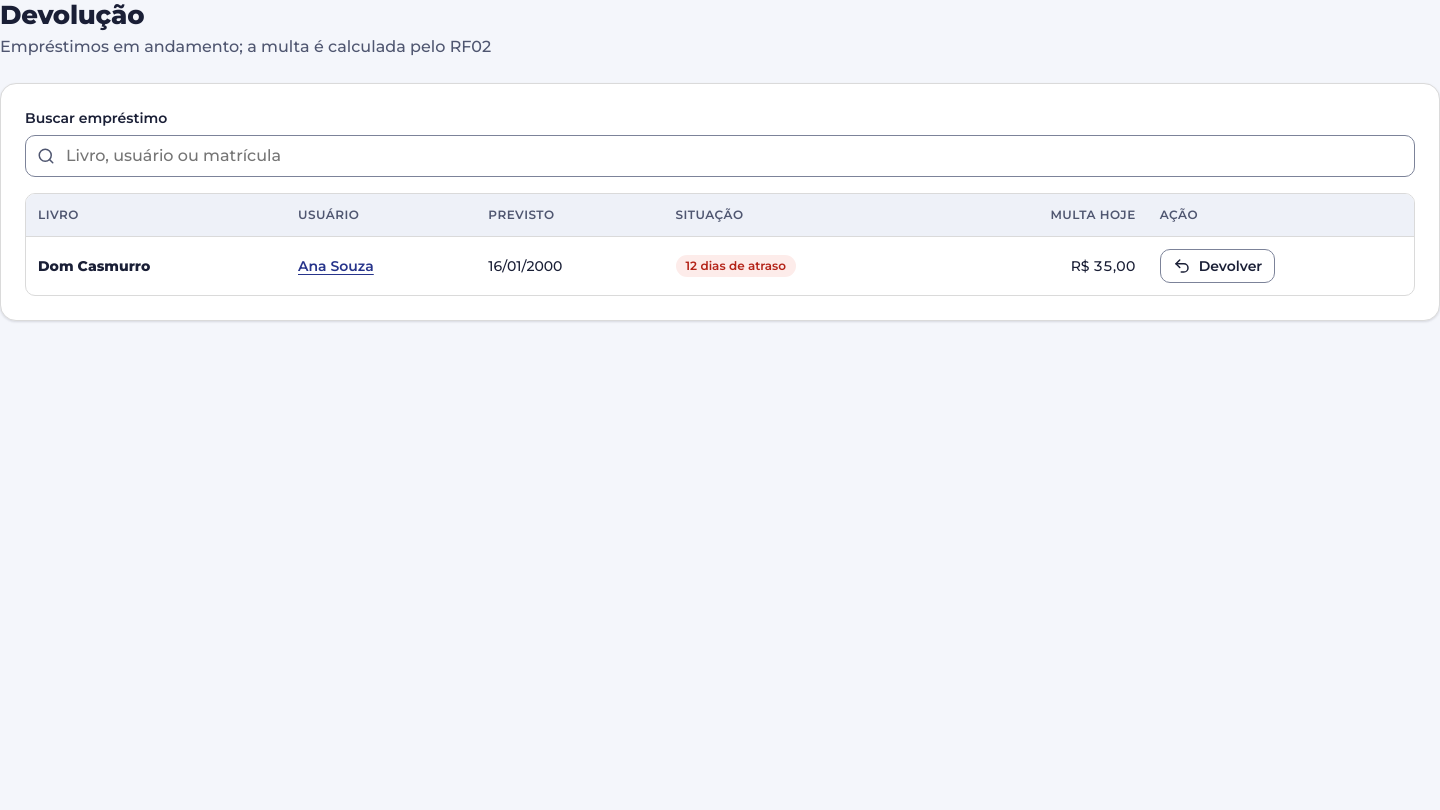
Test: UI — páginas › UI22 — devolução mostra a multa prevista para a data escolhida e confirma
Click the button "Devolver" at {"x": 1218, "y": 266}, box [1160,249,1275,283]
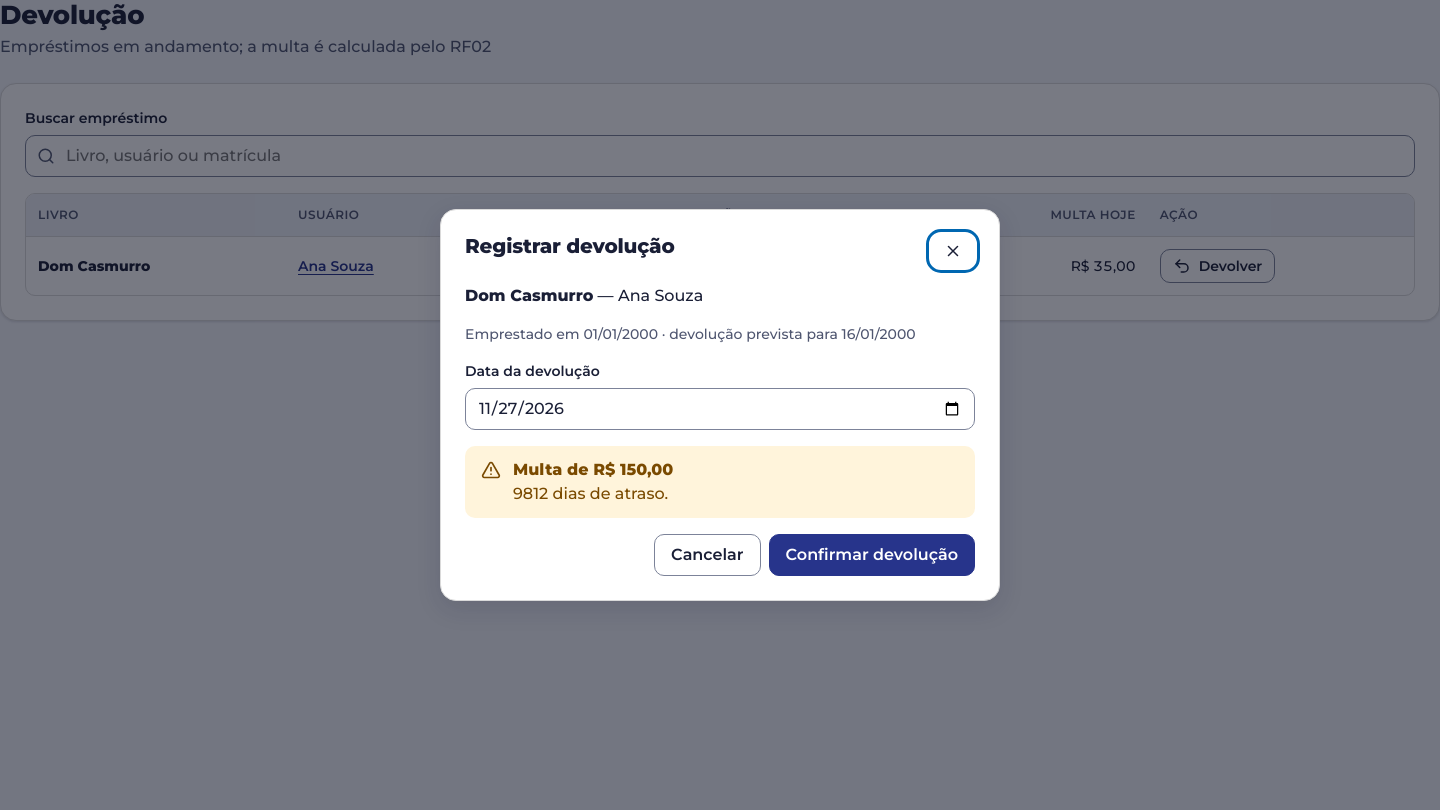
Type "2000-01-19" into the date field labelled "Data da devolução" at {"x": 720, "y": 409}, box [465,388,975,430]
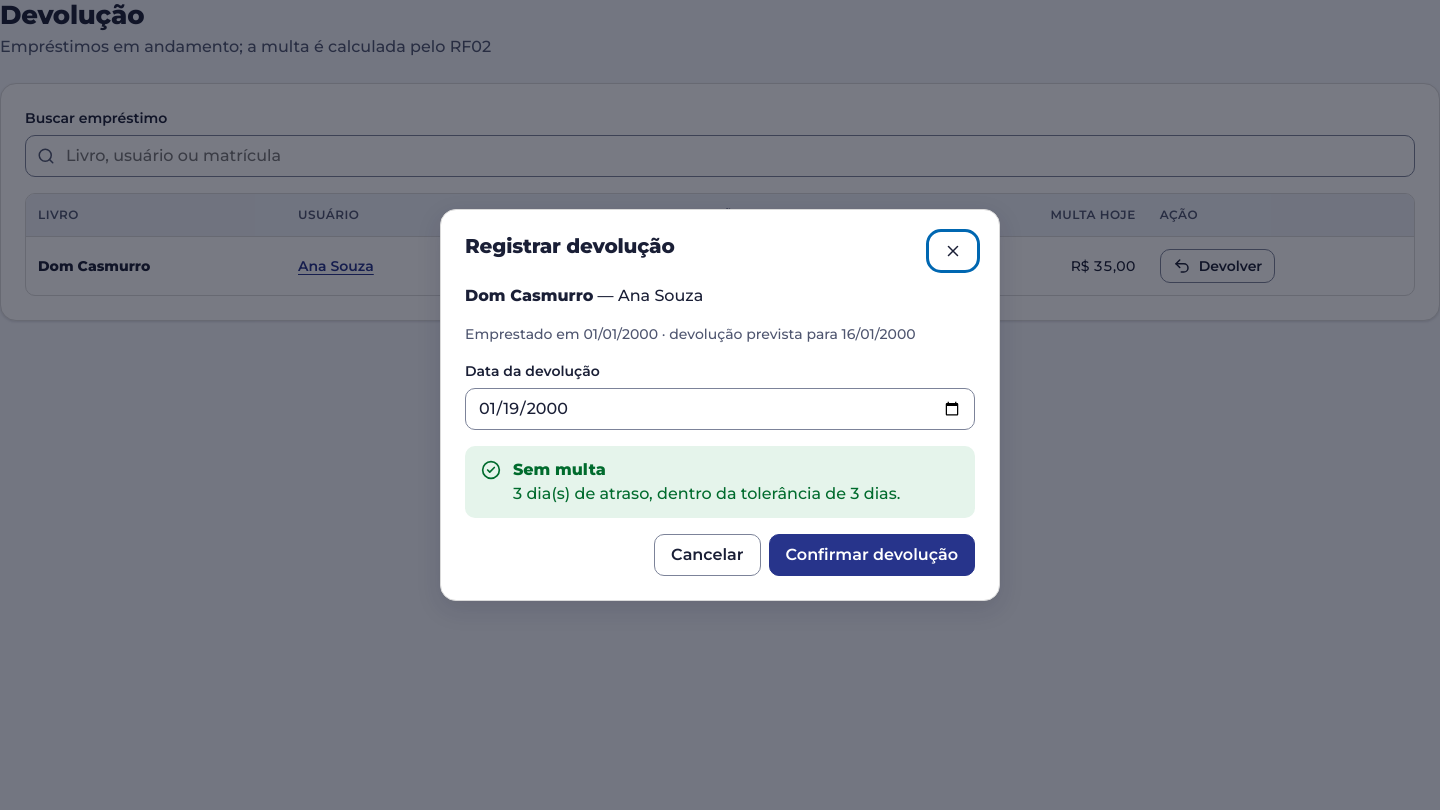
Check: the text "Sem multa" is shown, box [513,460,606,479]
Type "2000-01-20" into the date field labelled "Data da devolução" at {"x": 720, "y": 409}, box [465,388,975,430]
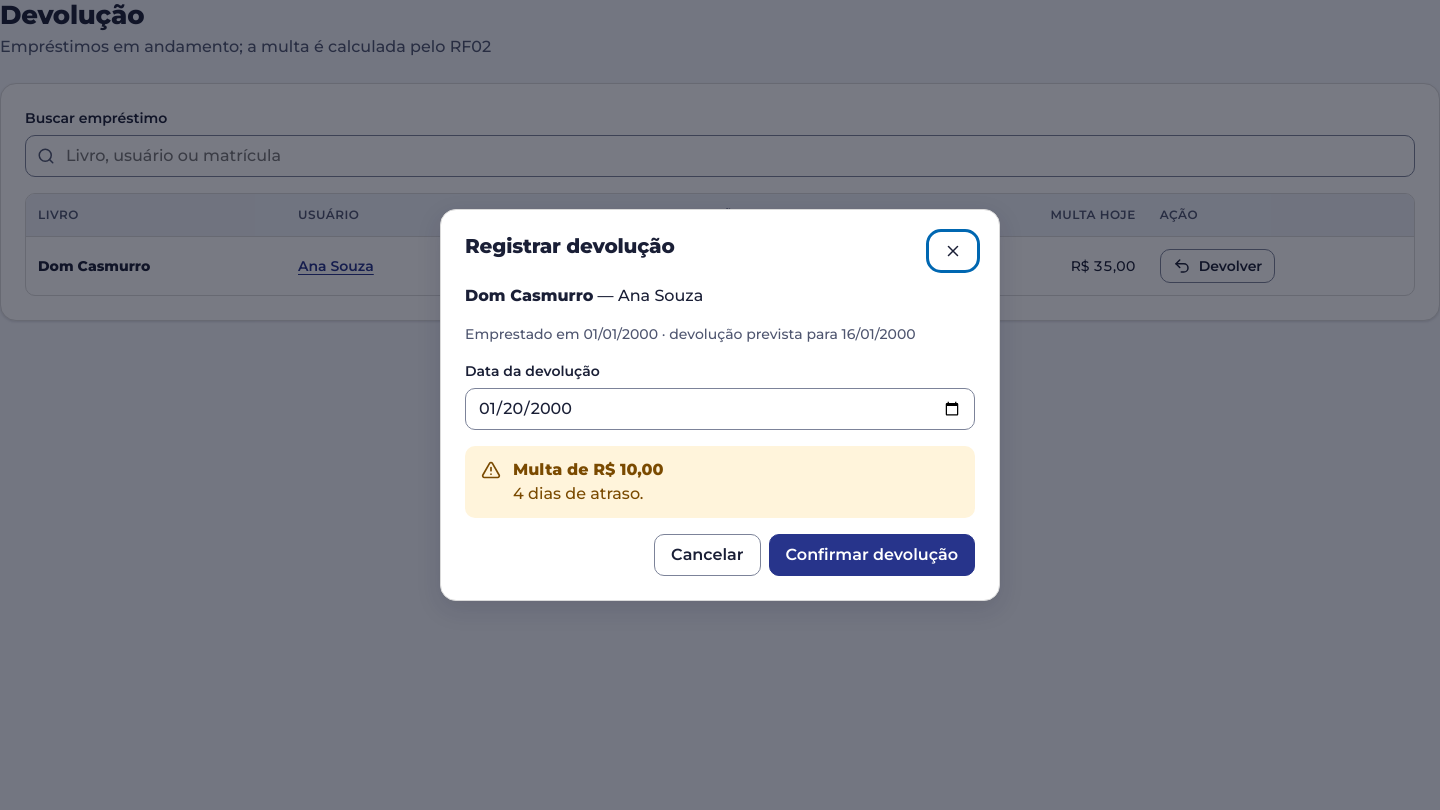
Check: the text "Multa de R$ 10,00" is shown, box [513,458,664,482]
Click the button "Confirmar devolução" at {"x": 872, "y": 555}, box [768,534,975,576]
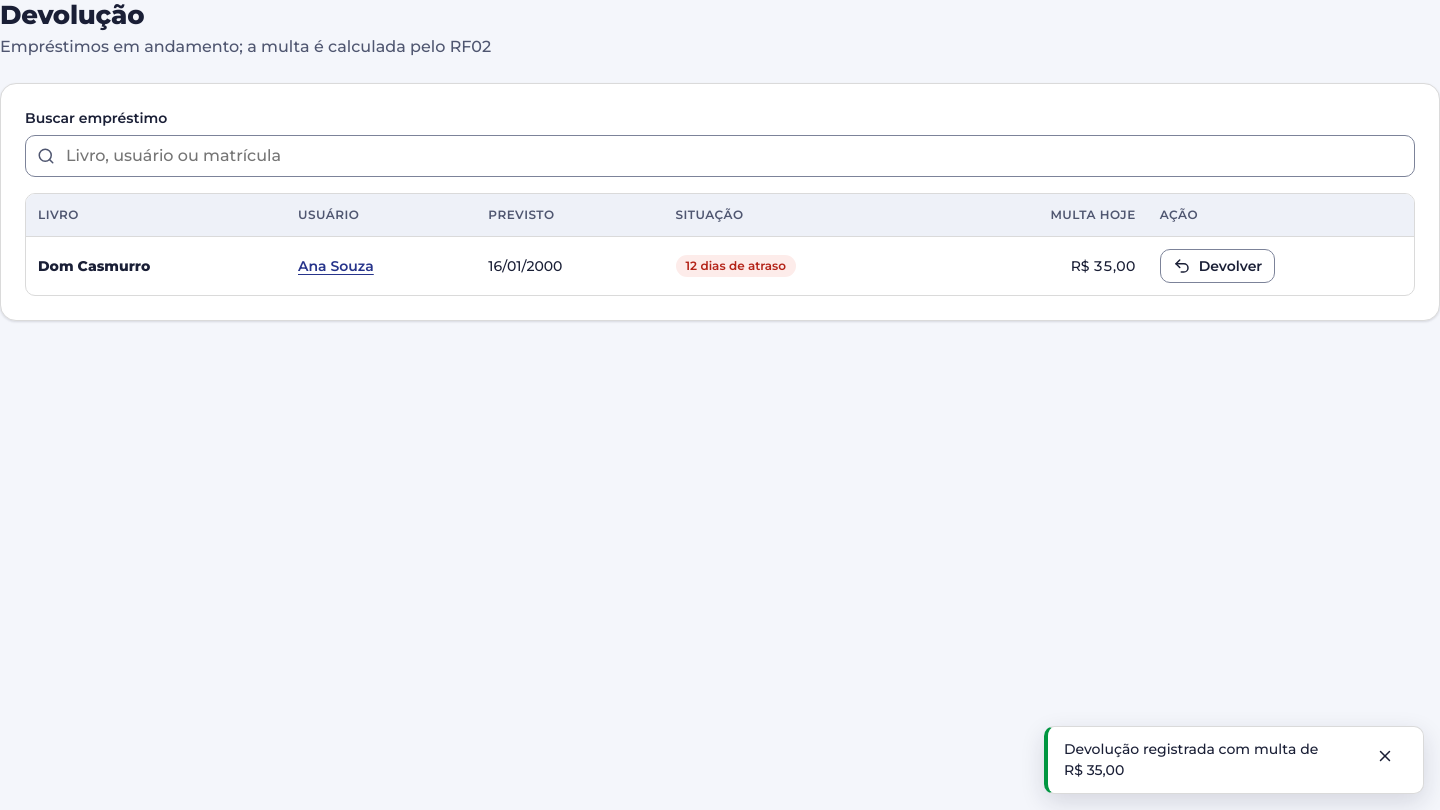
Check: the text "Devolução registrada com multa de R$ 35,00" is shown, box [1064,739,1351,781]
